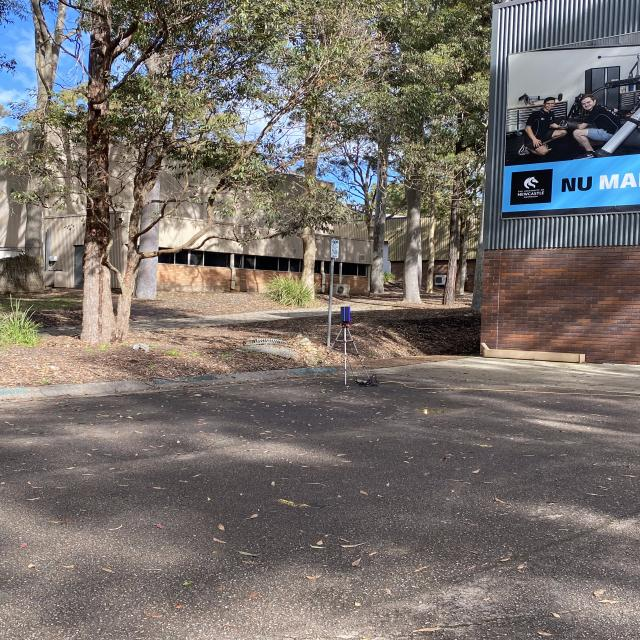matrix: (339, 306, 352, 322)
